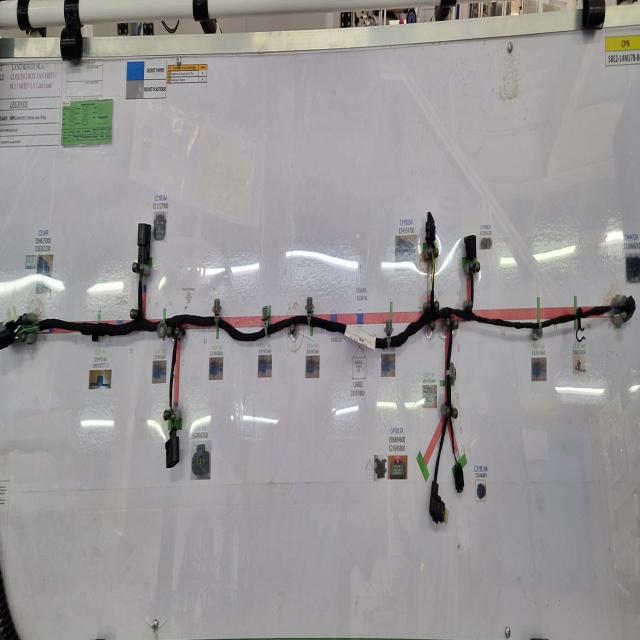Clip: (533, 307, 543, 341), (212, 298, 222, 329), (263, 302, 272, 336), (577, 307, 584, 344), (157, 317, 168, 339), (307, 293, 314, 324), (446, 362, 456, 382), (386, 318, 392, 350), (91, 323, 98, 343)
Connector: (0, 315, 29, 352), (430, 479, 448, 526), (165, 426, 180, 470), (137, 220, 149, 263), (426, 207, 436, 251), (454, 458, 464, 492), (464, 235, 476, 262), (626, 293, 636, 320)
Gape: (17, 313, 39, 332), (608, 301, 622, 321), (431, 246, 436, 294), (168, 407, 176, 431), (137, 264, 145, 284), (451, 443, 457, 462)
Info: (346, 324, 376, 351)
MHEV_N11_Cable: (40, 273, 612, 479)
